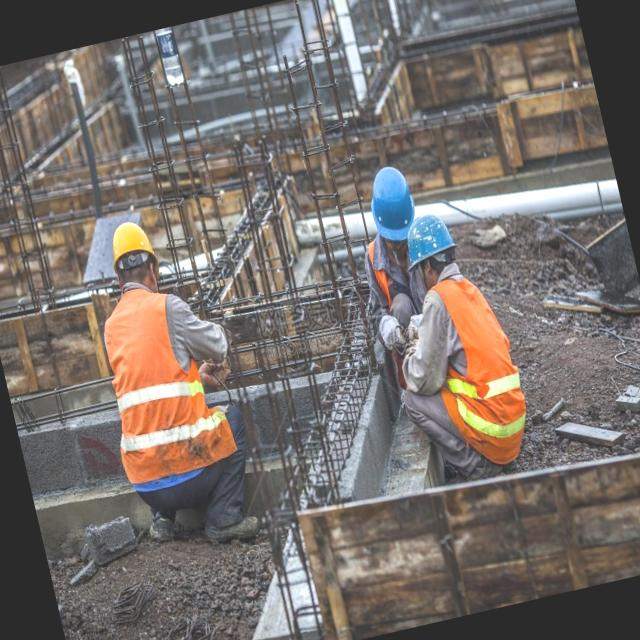helmet: (360, 160, 420, 247), (404, 208, 458, 265), (101, 216, 156, 261)
vest: (84, 284, 236, 486), (415, 266, 537, 468)
